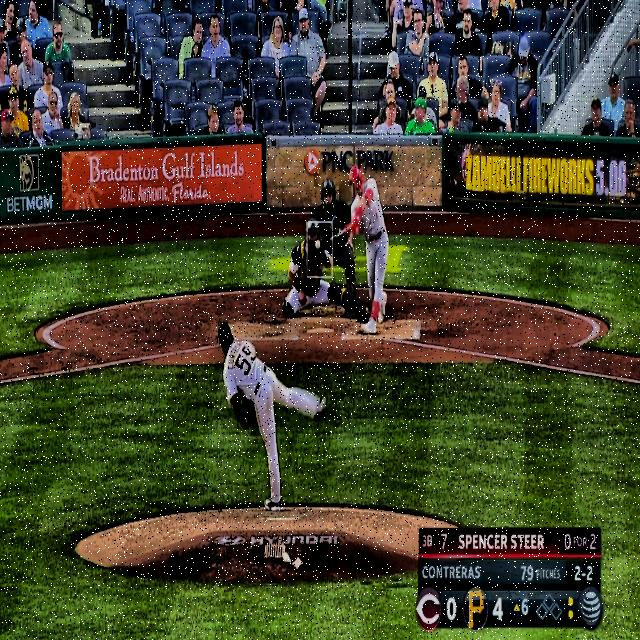baseball: (315, 239, 321, 250)
